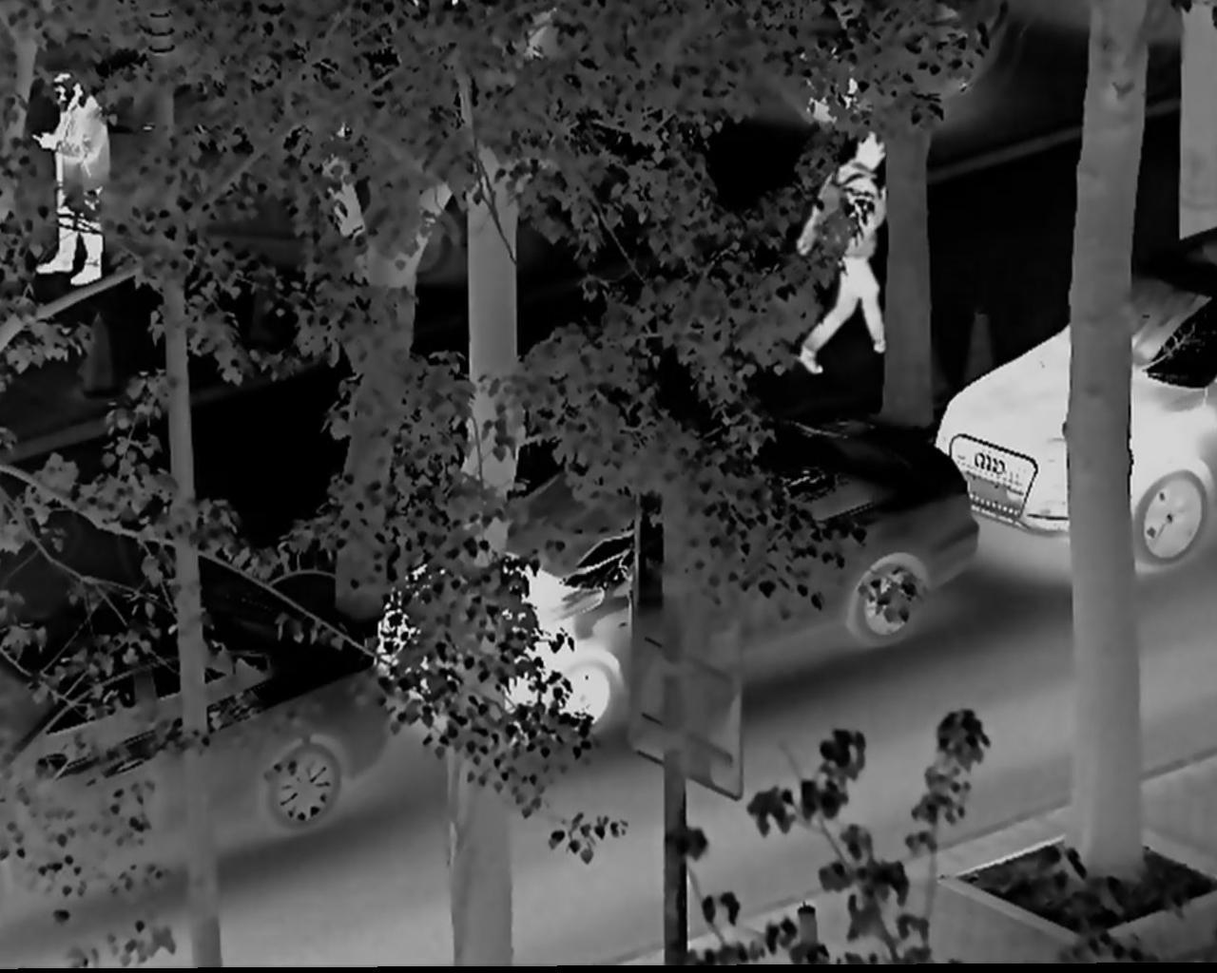person: (784, 132, 894, 372), (26, 71, 126, 293)
